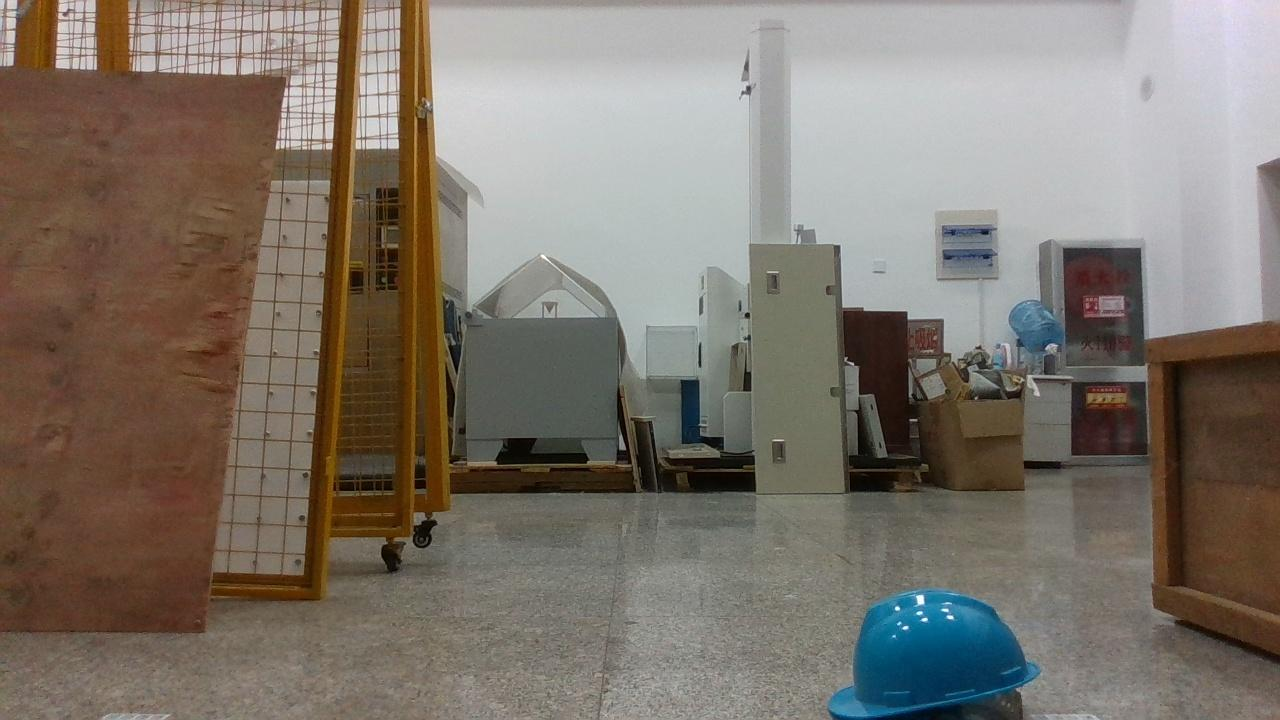safehat: (828, 590, 1040, 720)
